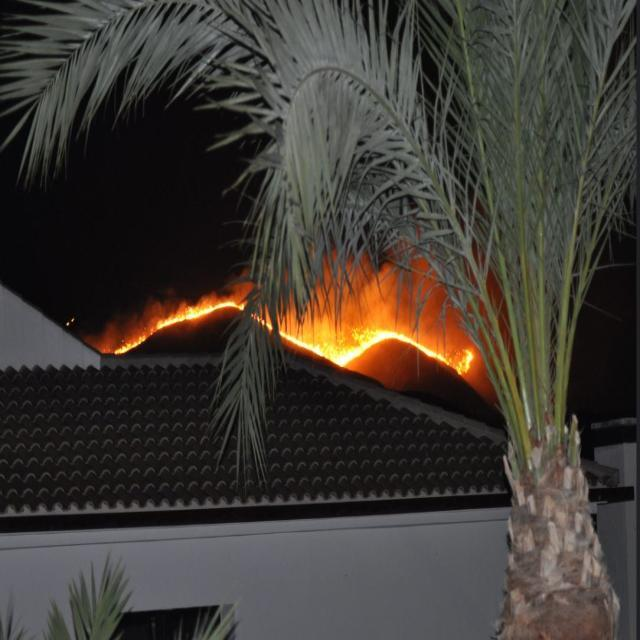Fire: (257, 291, 473, 381), (100, 278, 240, 356)
Smoke: (320, 212, 476, 318)
